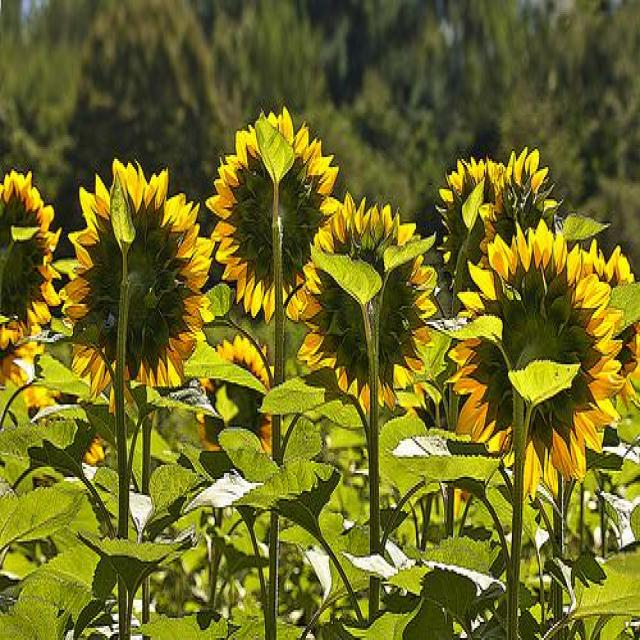sunflower: (449, 220, 622, 495), (62, 160, 215, 410), (298, 193, 436, 408), (208, 107, 337, 321), (579, 234, 639, 406), (0, 169, 59, 343), (200, 331, 277, 457), (479, 150, 552, 254), (0, 324, 42, 392), (442, 154, 504, 195)
